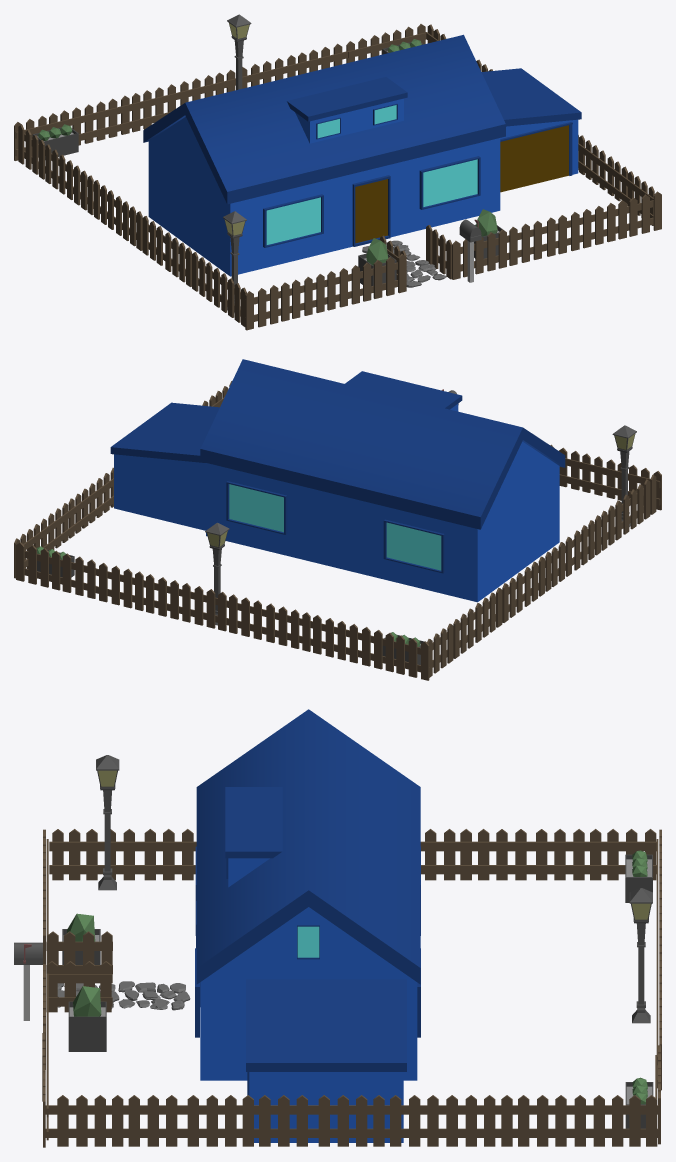
Rendered from eee4.fbx.
3 views of the same model, one above another, from view 1: azimuth 30°, elevation 25°; view 2: azimuth 150°, elevation 25°; view 3: azimuth 270°, elevation 25° (orthographic). The views are drawn at different scales.
Visible parts, largest first — view 1: eee4; view 2: eee4; view 3: eee4.
Part boxes in pixels (left/top/right/bottom): eee4: left=14, top=14, right=661, bottom=330; eee4: left=14, top=359, right=661, bottom=680; eee4: left=14, top=709, right=661, bottom=1147.
Bounding box in the file's own units: 25.2 × 8.44 × 25.55.
